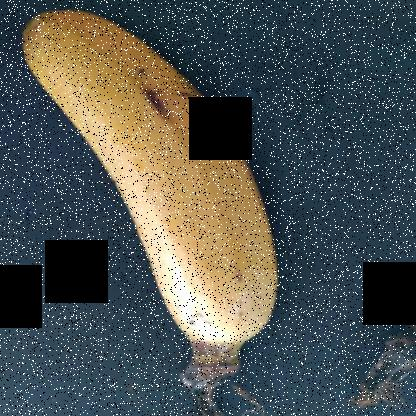freshripe: (19, 15, 293, 349)
